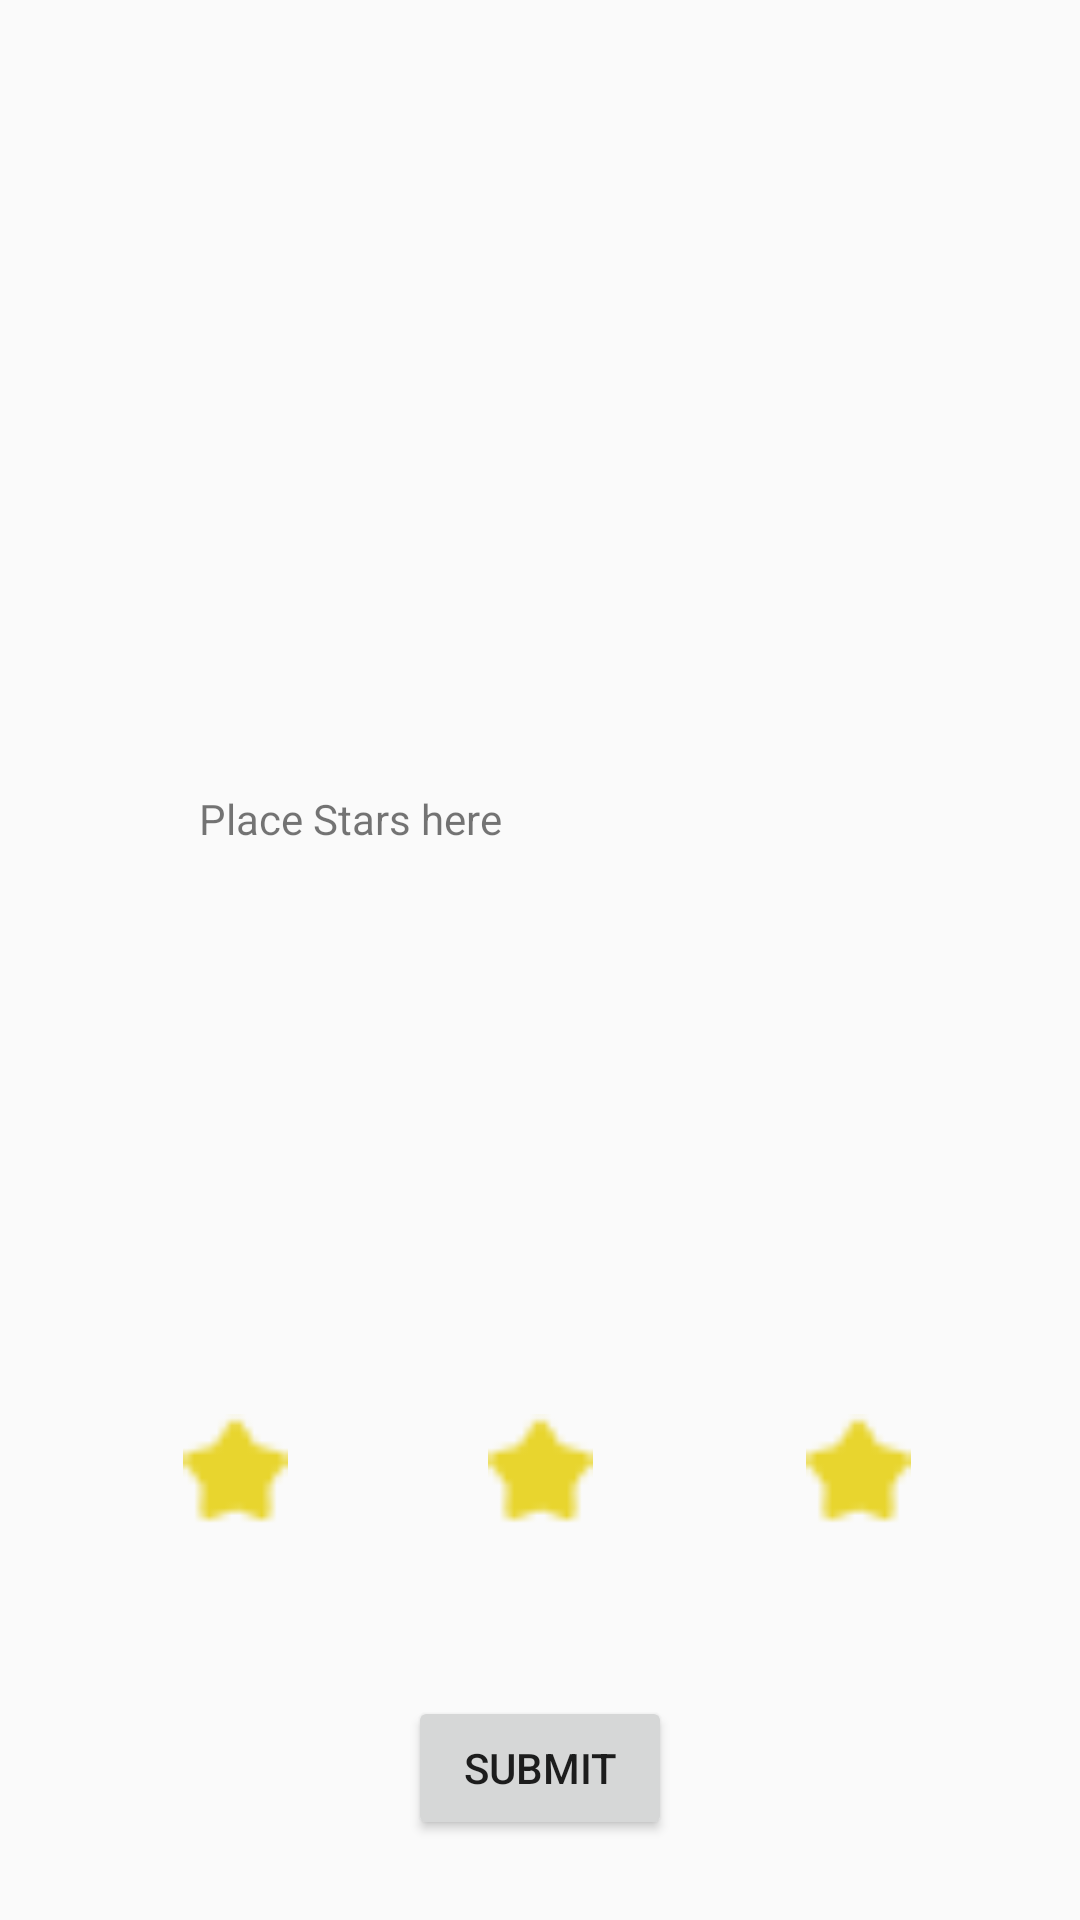

Icons on this 1080x1920 Android screen, each with its box as (x1, y1, x2, y2):
star: (183, 1418, 288, 1522), (488, 1418, 593, 1522), (806, 1418, 911, 1522)
